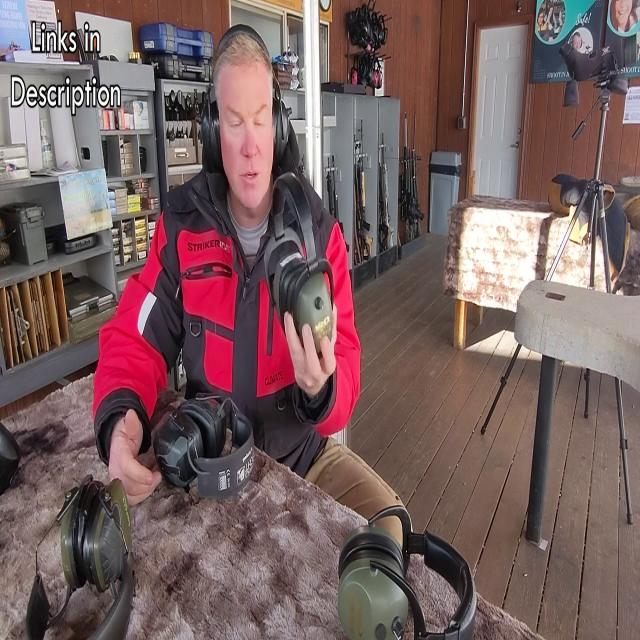earmuff: (192, 84, 226, 170), (271, 88, 294, 168)
